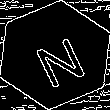N_NW: (24, 24, 86, 86)
